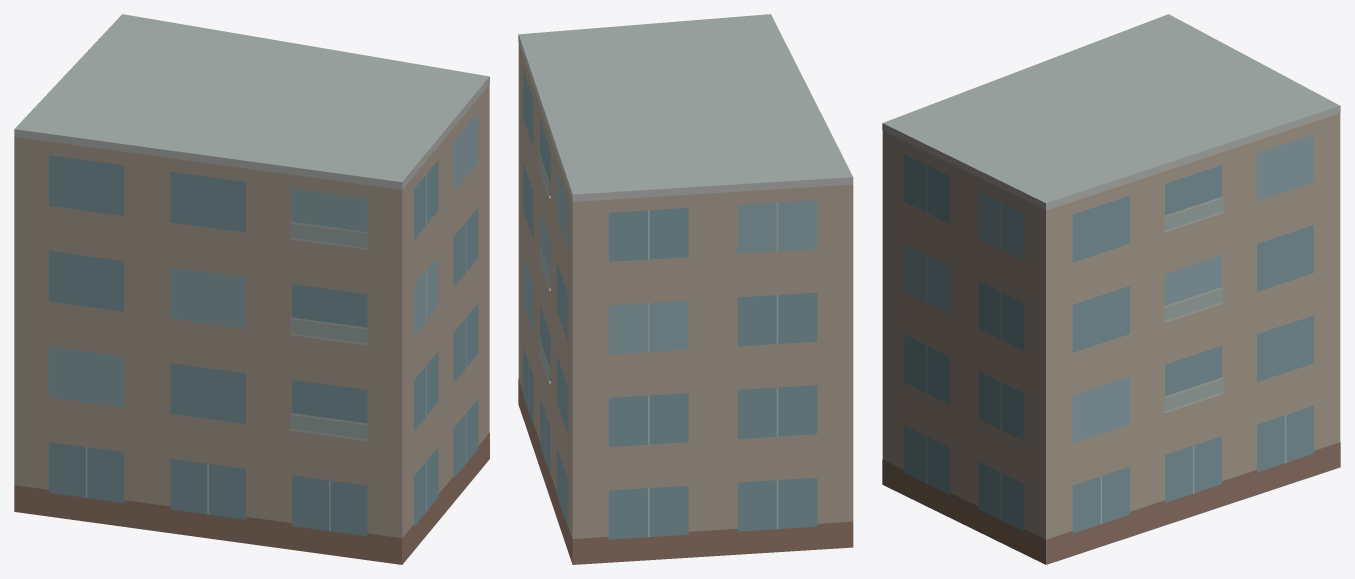
The model's file is survey-upis-32900545.glb.
The picture shows the model from 3 angles, left to right: view 1: azimuth 30°, elevation 25°; view 2: azimuth 150°, elevation 25°; view 3: azimuth 270°, elevation 25°; orthographic projection. The views are drawn at different scales.
Visible parts, largest first — view 1: survey-upis-32900545.tmp; view 2: survey-upis-32900545.tmp; view 3: survey-upis-32900545.tmp.
Part boxes in pixels (bbox=[...]): survey-upis-32900545.tmp: bbox=[14, 14, 489, 564]; survey-upis-32900545.tmp: bbox=[518, 14, 853, 564]; survey-upis-32900545.tmp: bbox=[882, 14, 1340, 564].
Bounding box in the file's own units: 13.71 × 12.2 × 14.02.
